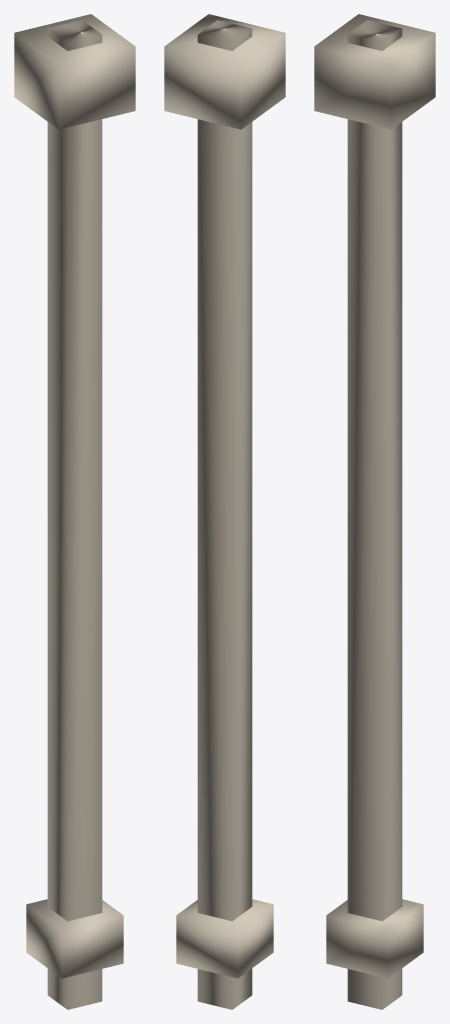
File: warstaff.glb
The picture shows the model from 3 angles, left to right: view 1: azimuth 30°, elevation 25°; view 2: azimuth 150°, elevation 25°; view 3: azimuth 330°, elevation 25°; orthographic projection.
Parts seen in each view (by area): view 1: warstaff; view 2: warstaff; view 3: warstaff.
Part boxes in pixels (bbox=[...]): warstaff: bbox=[14, 14, 135, 1009]; warstaff: bbox=[164, 14, 285, 1009]; warstaff: bbox=[314, 14, 435, 1009].
Bounding box in the file's own units: 0.1 × 1.2 × 0.1.
